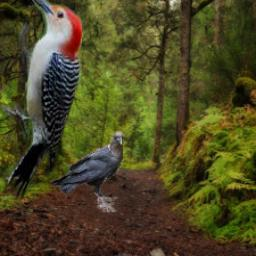Crow: (50, 131, 124, 212)
Woodpecker: (2, 0, 82, 201)
